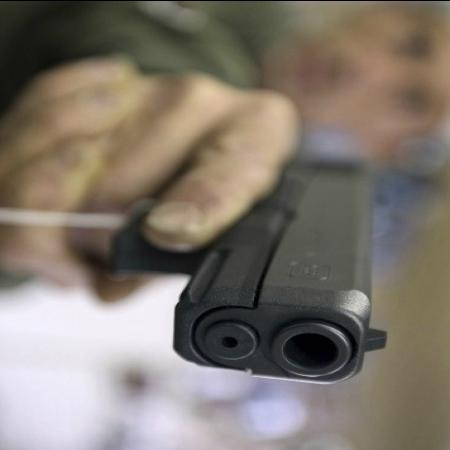Pistol: (112, 163, 392, 386)
